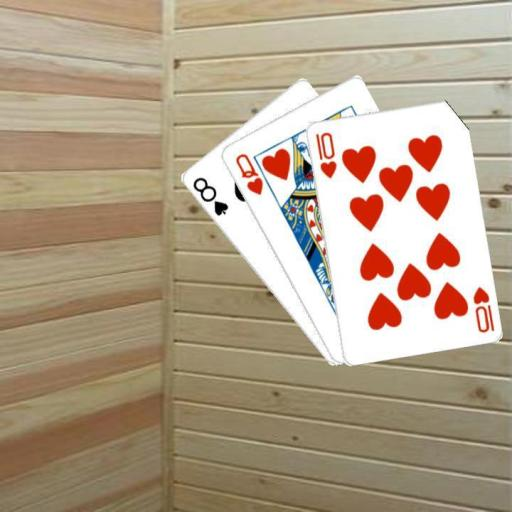card-corner: (188, 174, 230, 218), (232, 150, 264, 197), (311, 129, 338, 180), (469, 283, 496, 334)
